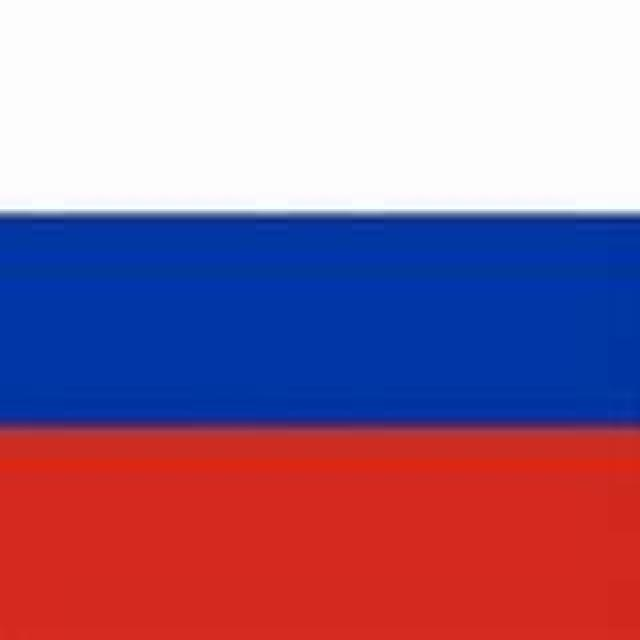russia: (5, 5, 640, 601)
